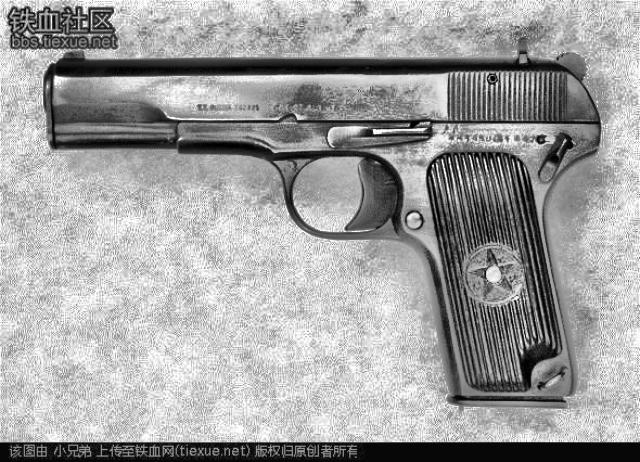pistol: (43, 43, 599, 411)
